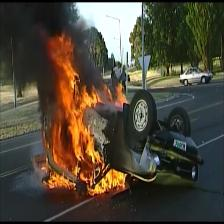fire: (41, 28, 130, 196)
